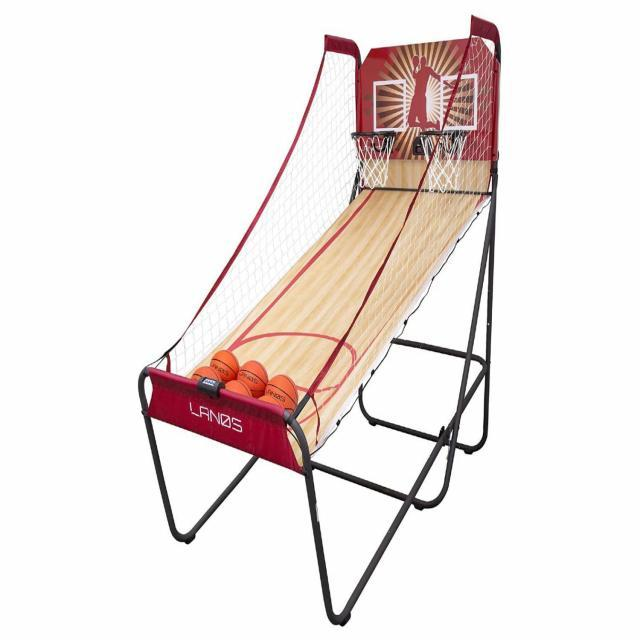Basketball: (265, 375, 298, 415), (238, 360, 269, 398), (210, 351, 239, 384), (225, 379, 252, 396), (192, 367, 222, 382), (256, 396, 284, 410)
hoop: (420, 130, 464, 192), (350, 130, 396, 189)
